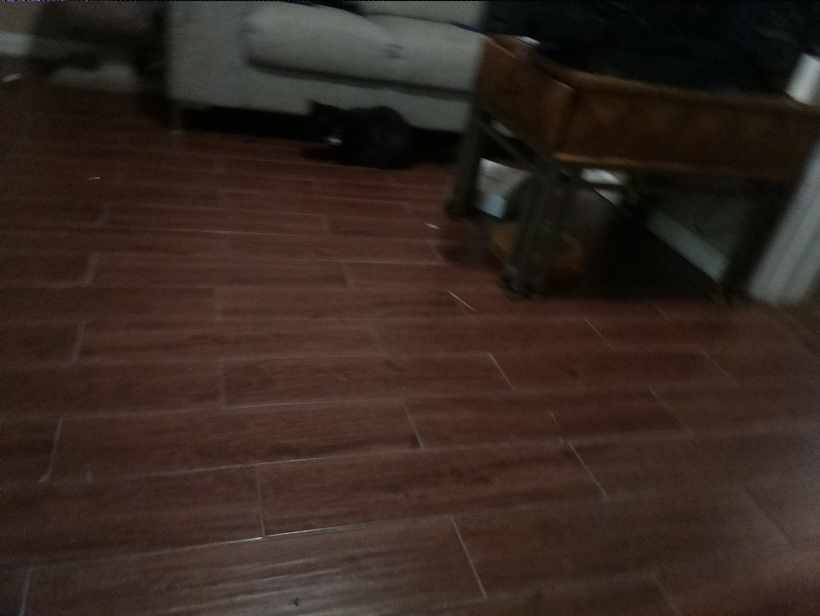cat: (298, 84, 461, 173)
